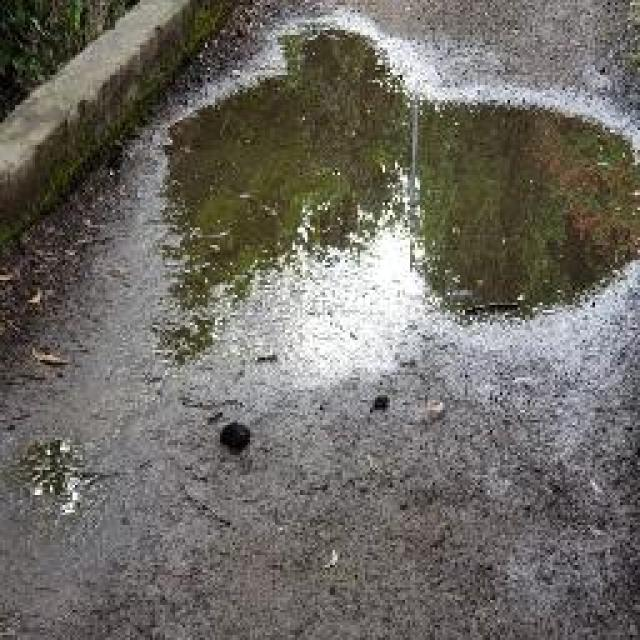puddle: (158, 21, 640, 355)
